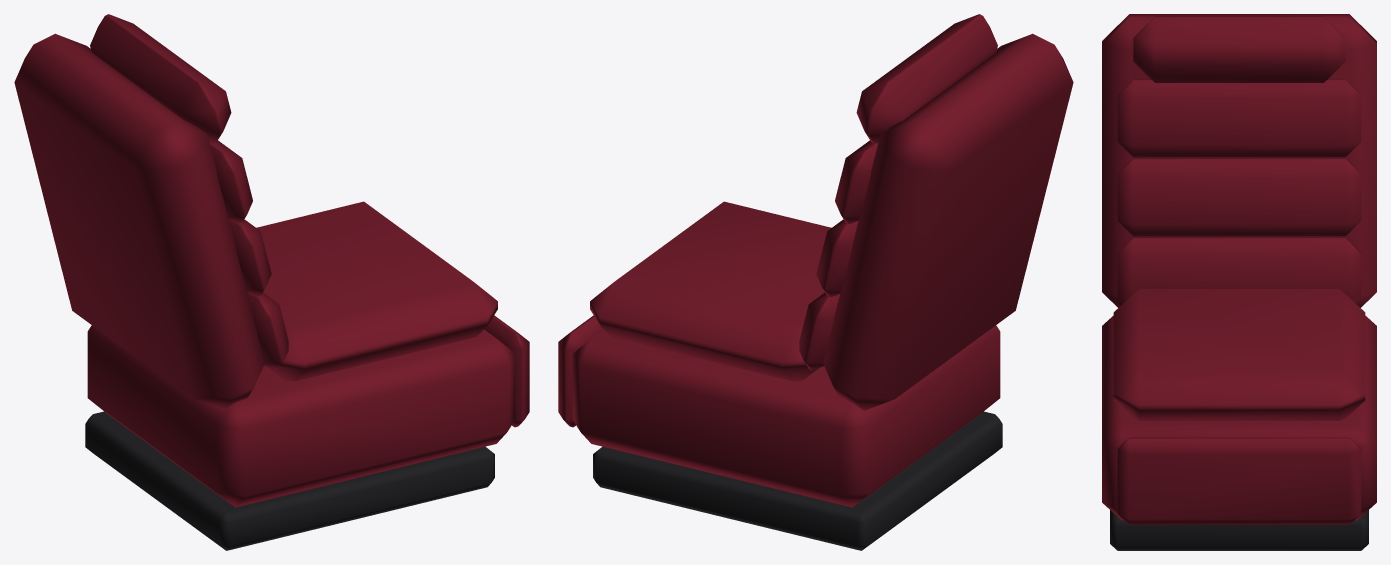
File: recliner.glb
3 renders of one model, left to right at view 1: azimuth 30°, elevation 25°; view 2: azimuth 150°, elevation 25°; view 3: azimuth 270°, elevation 25°, orthographic. The views are drawn at different scales.
Parts seen in each view (by area): view 1: Mesh_BackBody, Mesh_Box, Mesh_Cushion, Mesh_Plinth, Mesh_Pillow, Mesh_Roll2, Mesh_Roll0, Mesh_Roll1, Mesh_Footrest; view 2: Mesh_BackBody, Mesh_Box, Mesh_Cushion, Mesh_Plinth, Mesh_Pillow, Mesh_Roll2, Mesh_Roll0, Mesh_Roll1, Mesh_Footrest; view 3: Mesh_Cushion, Mesh_Footrest, Mesh_Roll1, Mesh_Roll2, Mesh_BackBody, Mesh_Pillow, Mesh_Roll0, Mesh_Box, Mesh_Plinth.
Boxes of the visible parts, bbox=[...] form: Mesh_BackBody: bbox=[14, 33, 264, 410]; Mesh_Box: bbox=[87, 325, 515, 507]; Mesh_Cushion: bbox=[256, 201, 497, 381]; Mesh_Plinth: bbox=[85, 411, 494, 550]; Mesh_Pillow: bbox=[90, 14, 231, 143]; Mesh_Roll2: bbox=[209, 140, 252, 224]; Mesh_Roll0: bbox=[248, 292, 288, 370]; Mesh_Roll1: bbox=[229, 219, 271, 297]; Mesh_Footrest: bbox=[484, 315, 529, 427]; Mesh_BackBody: bbox=[823, 33, 1073, 410]; Mesh_Box: bbox=[572, 325, 1000, 507]; Mesh_Cushion: bbox=[590, 201, 831, 381]; Mesh_Plinth: bbox=[593, 411, 1002, 550]; Mesh_Pillow: bbox=[856, 14, 997, 143]; Mesh_Roll2: bbox=[835, 140, 878, 224]; Mesh_Roll0: bbox=[799, 292, 839, 370]; Mesh_Roll1: bbox=[816, 219, 858, 297]; Mesh_Footrest: bbox=[558, 315, 603, 427]; Mesh_Cushion: bbox=[1113, 289, 1365, 420]; Mesh_Footrest: bbox=[1117, 437, 1361, 524]; Mesh_Roll1: bbox=[1117, 158, 1361, 236]; Mesh_Roll2: bbox=[1117, 79, 1361, 157]; Mesh_BackBody: bbox=[1102, 14, 1376, 307]; Mesh_Pillow: bbox=[1133, 16, 1345, 82]; Mesh_Roll0: bbox=[1117, 237, 1361, 304]; Mesh_Box: bbox=[1102, 315, 1376, 520]; Mesh_Plinth: bbox=[1110, 510, 1368, 550].
Bounding box in the file's own units: 1.06 × 1.17 × 0.7.
